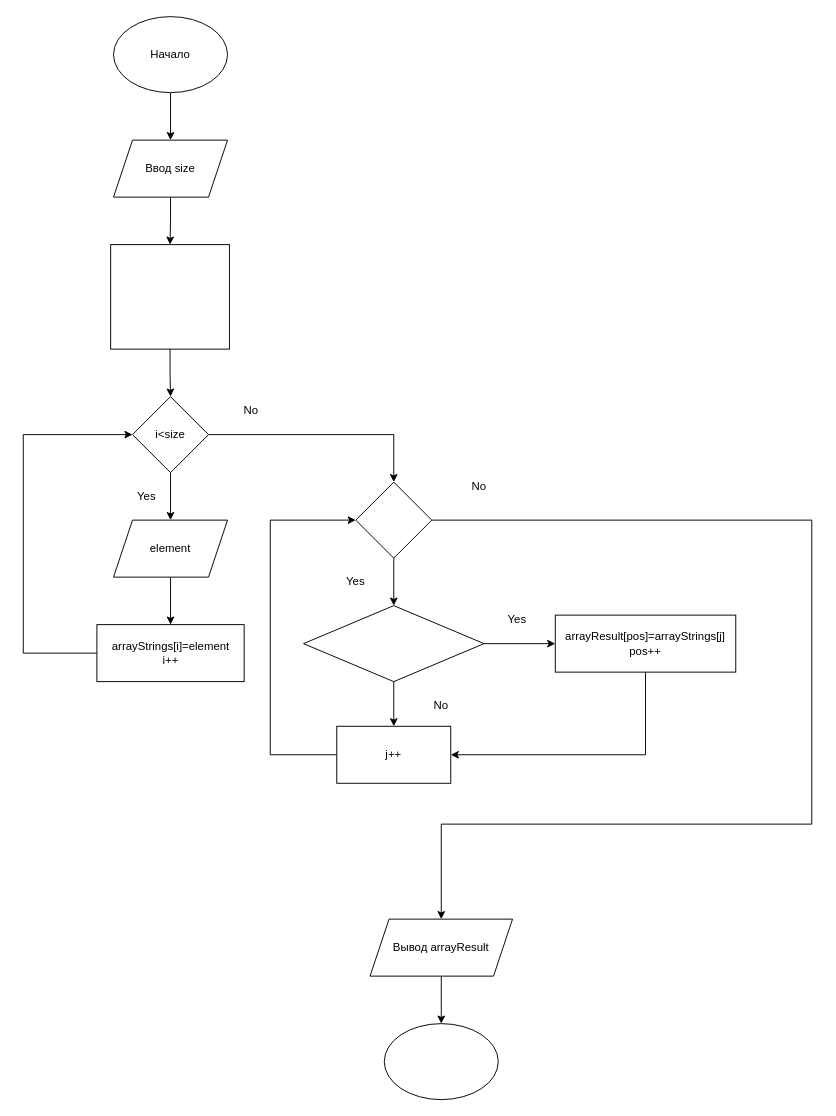
The diagram is 836 pixels wide and 1116 high, and some of its shapes have lost their labels. The centre of each missing label's shape, as x and y in pixels:
arrayStrings[j].Length<=len: the point at 393,643
arrayStrings[size] arrayResult[size] elem i=0 j=0 len=3 pos=0: the point at 169,296
j<size: the point at 393,519
Конец: the point at 440,1061
